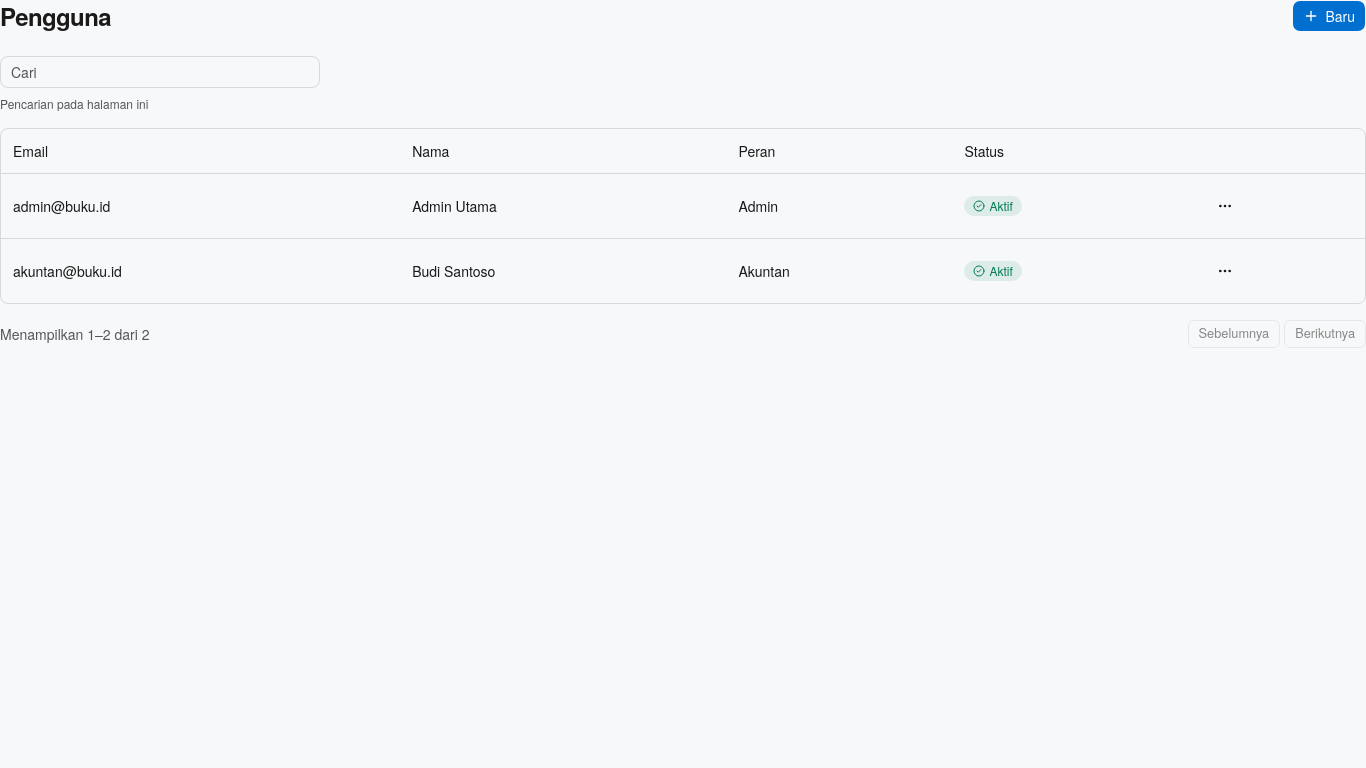
Test: surfaces an error toast and closes the confirm dialog when deactivating a user fails (instead of failing silently)
The image size is (1366, 768).
Expected: the text "akuntan@buku.id" is shown, [1,238,400,302]
What coordinates should you click on to do the following:
click the button named "aksi" in the row of "akuntan@buku.id"
I would click on:
 (1225, 270)
Its box is [1209,254,1241,286].
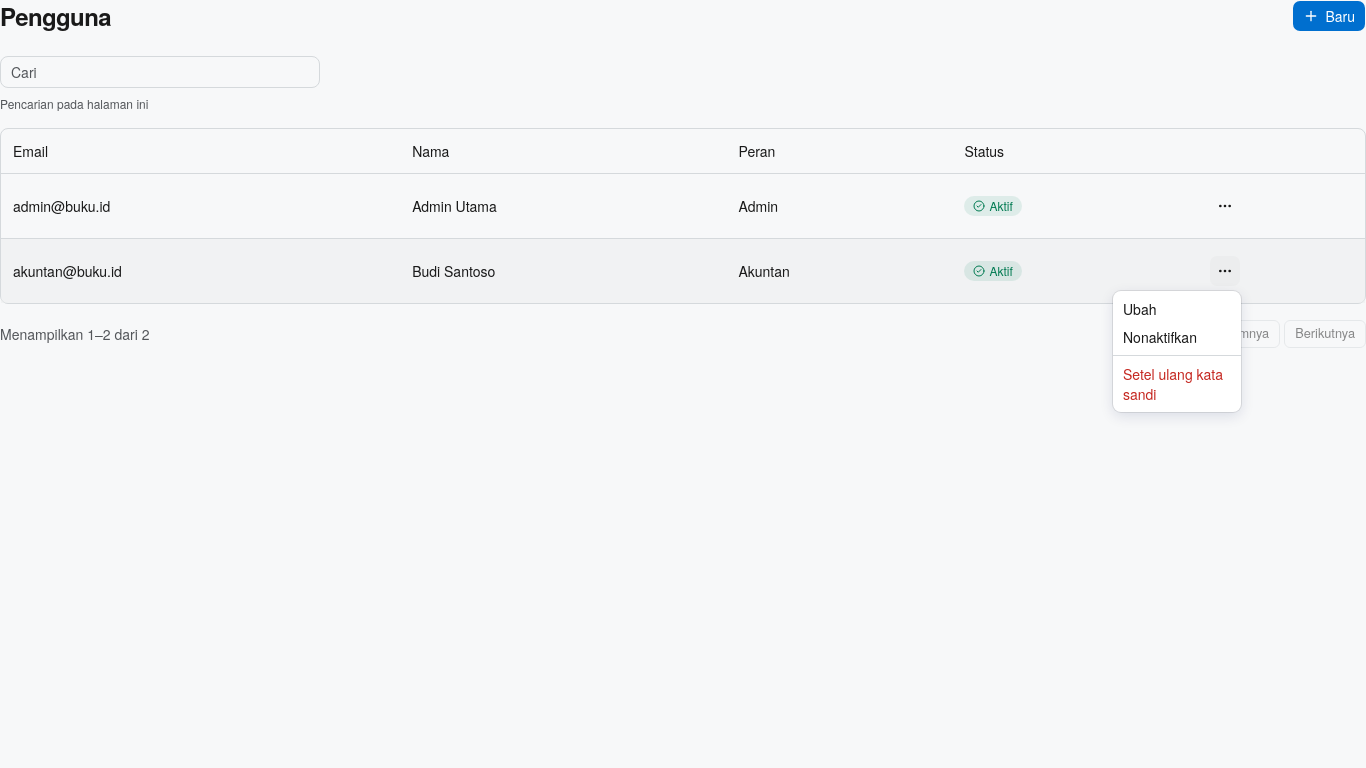
What coordinates should you click on to do the following:
click the menu item "Nonaktifkan"
I would click on:
 (1160, 337)
Its box is [1123,327,1197,347].
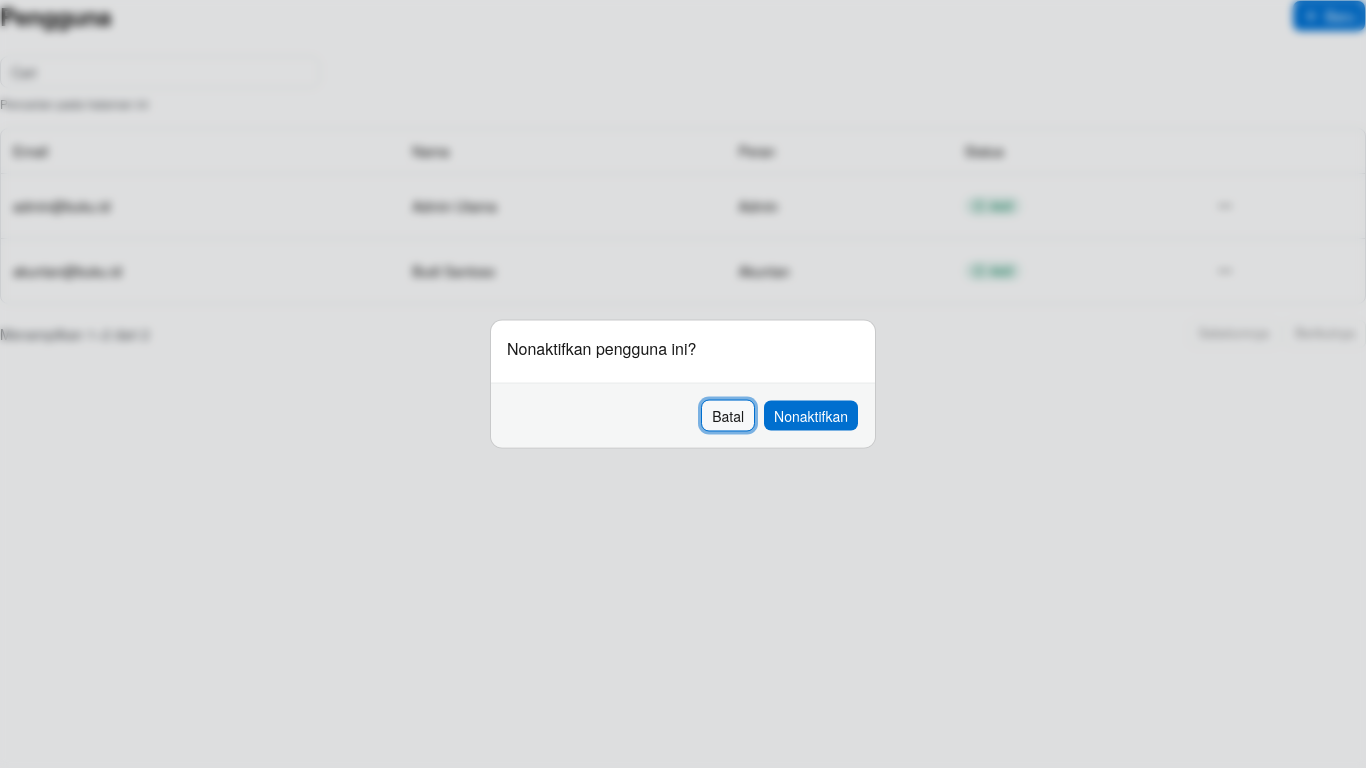
What coordinates should you click on to do the following:
click the button "Nonaktifkan"
I would click on:
 (811, 416)
Its box is [763,400,859,432].
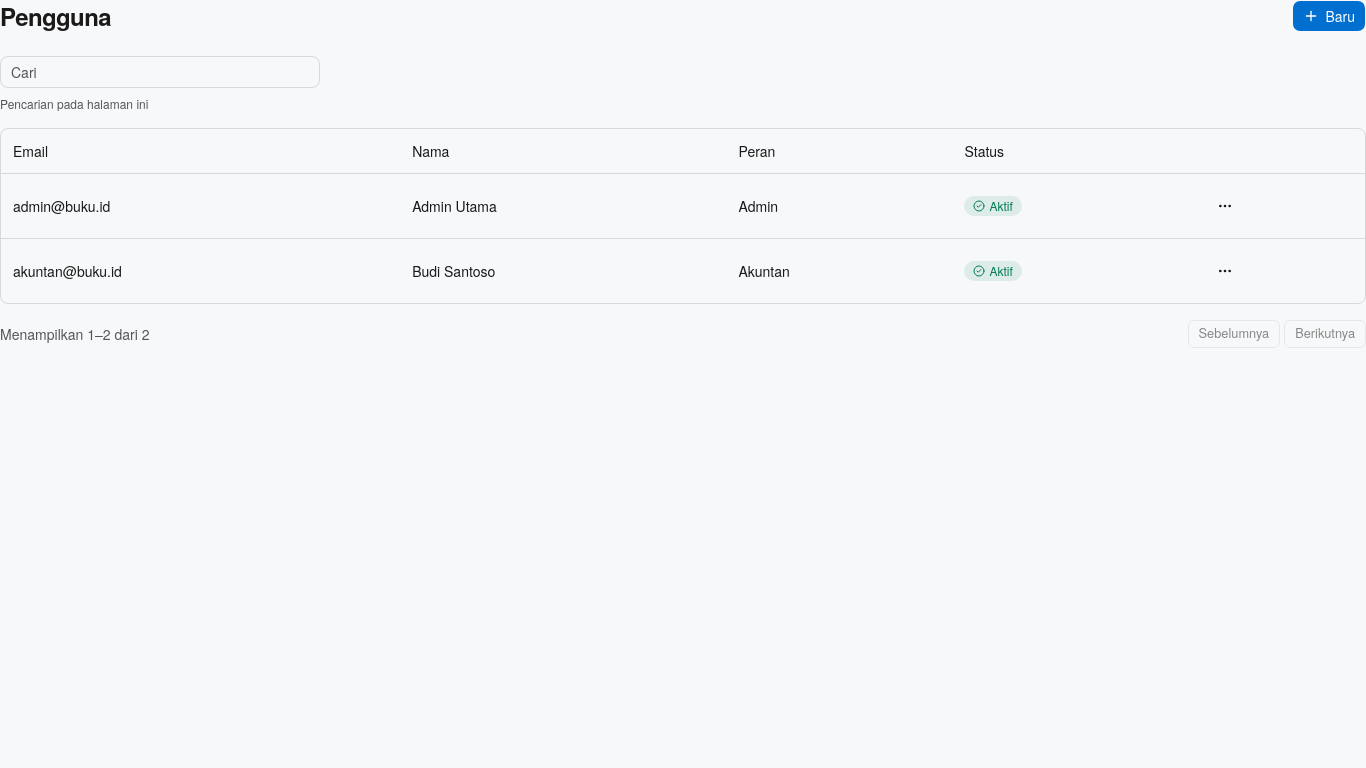
Result: the dialog is gone
